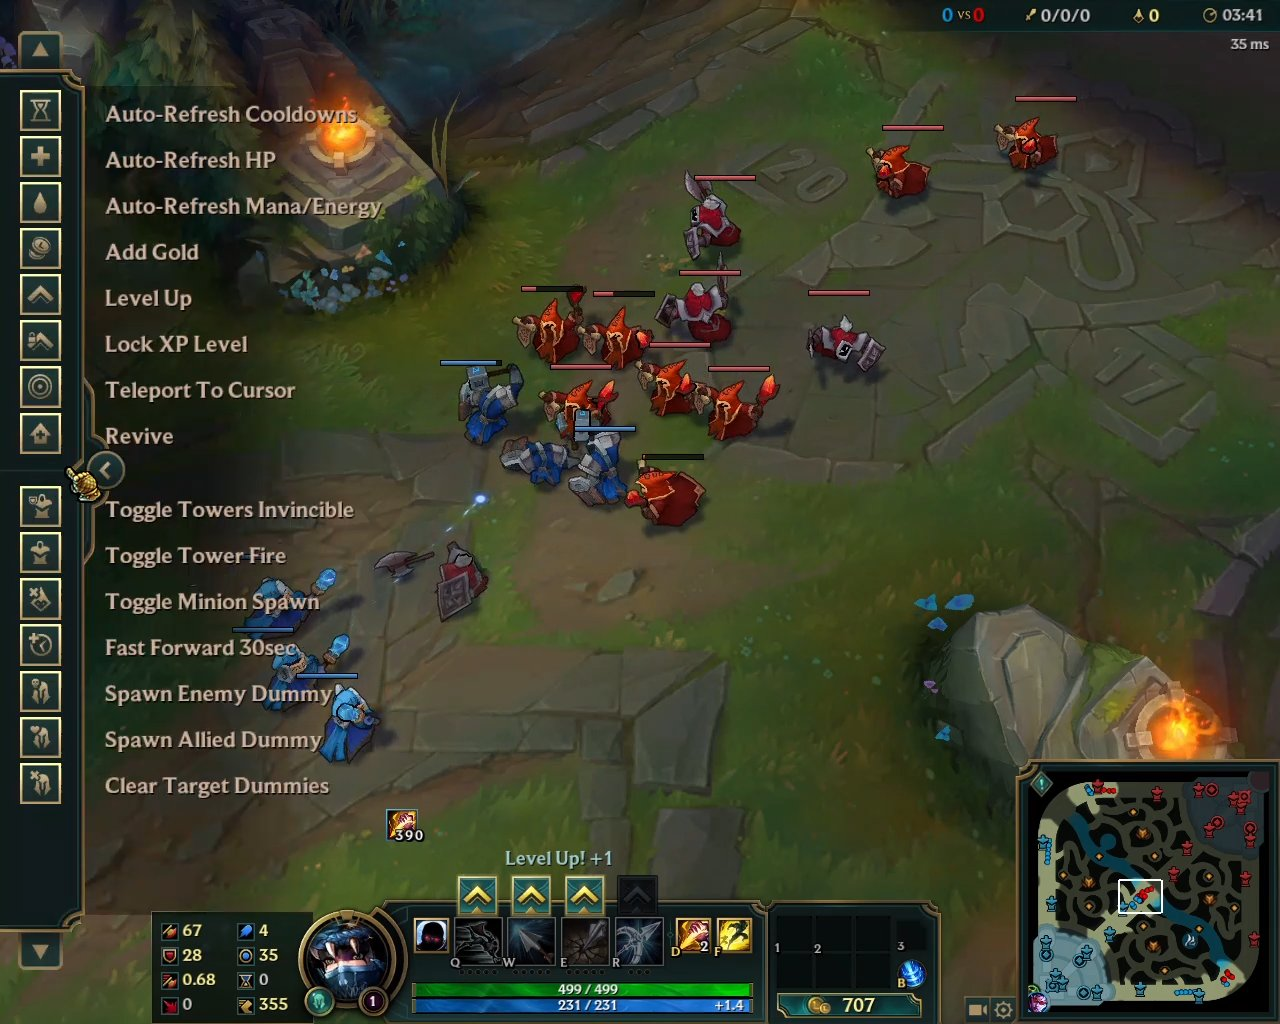EnemyMinion: (660, 258, 741, 348), (676, 170, 757, 260), (802, 287, 881, 378), (990, 95, 1078, 172), (694, 365, 776, 444), (626, 452, 705, 529), (863, 122, 942, 199), (548, 362, 620, 444), (582, 289, 657, 367), (637, 340, 709, 420), (517, 284, 586, 365)
